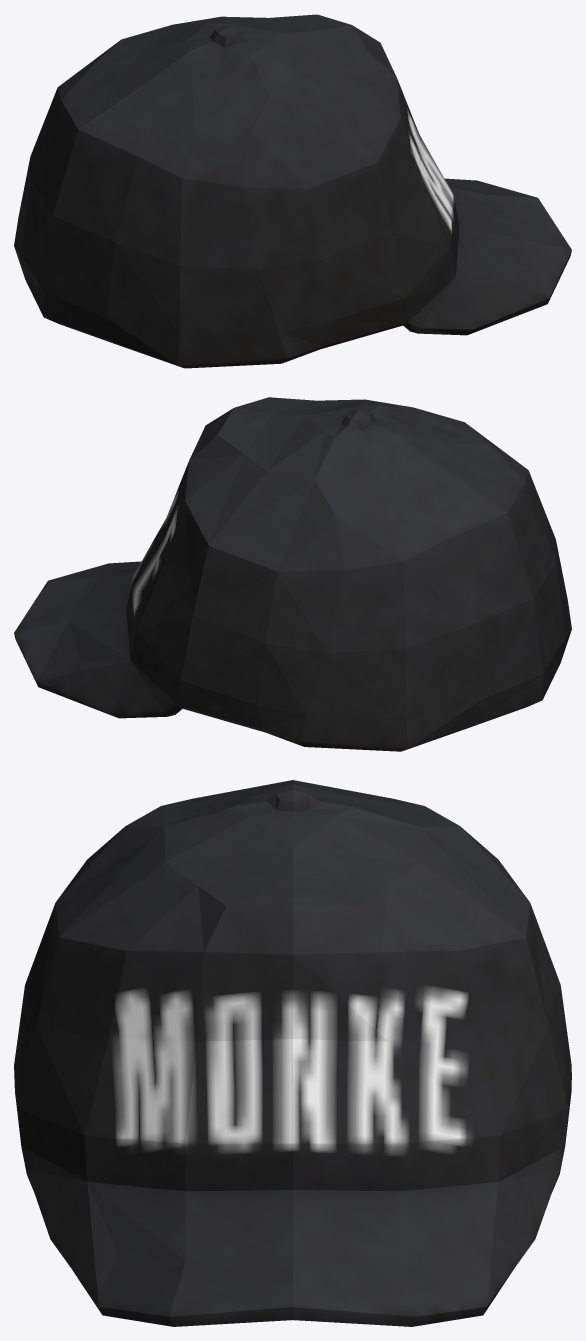
File: MONKE CAP.fbx
3 renders of one model, top to bottom at view 1: azimuth 30°, elevation 25°; view 2: azimuth 150°, elevation 25°; view 3: azimuth 270°, elevation 25°, orthographic. The views are drawn at different scales.
Visible parts, largest first — view 1: MONKE_CAP; view 2: MONKE_CAP; view 3: MONKE_CAP.
Part boxes in pixels (x1,y1,x2,y2): MONKE_CAP: [14, 14, 571, 368]; MONKE_CAP: [14, 397, 571, 751]; MONKE_CAP: [14, 780, 571, 1326].
Bounding box in the file's own units: 33.51 × 18.33 × 25.14.
